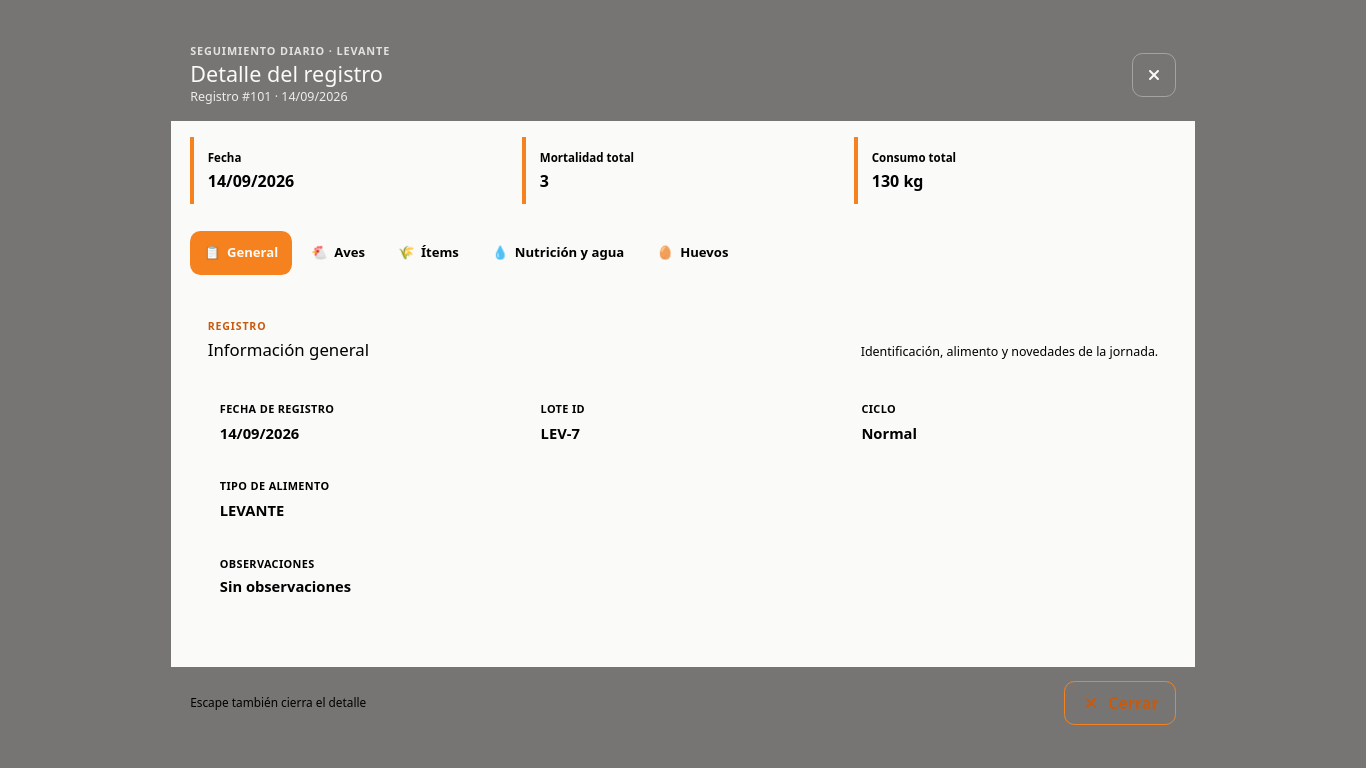
Scenario: ModalDetalleSeguimientoLevanteComponent · detalle responsive › usa botones tactiles y navega a Aves
Click the tab with id "det-levante-tab-aves". click: coordinates (338, 253)
box: [297, 231, 379, 275]
(page scrolled)
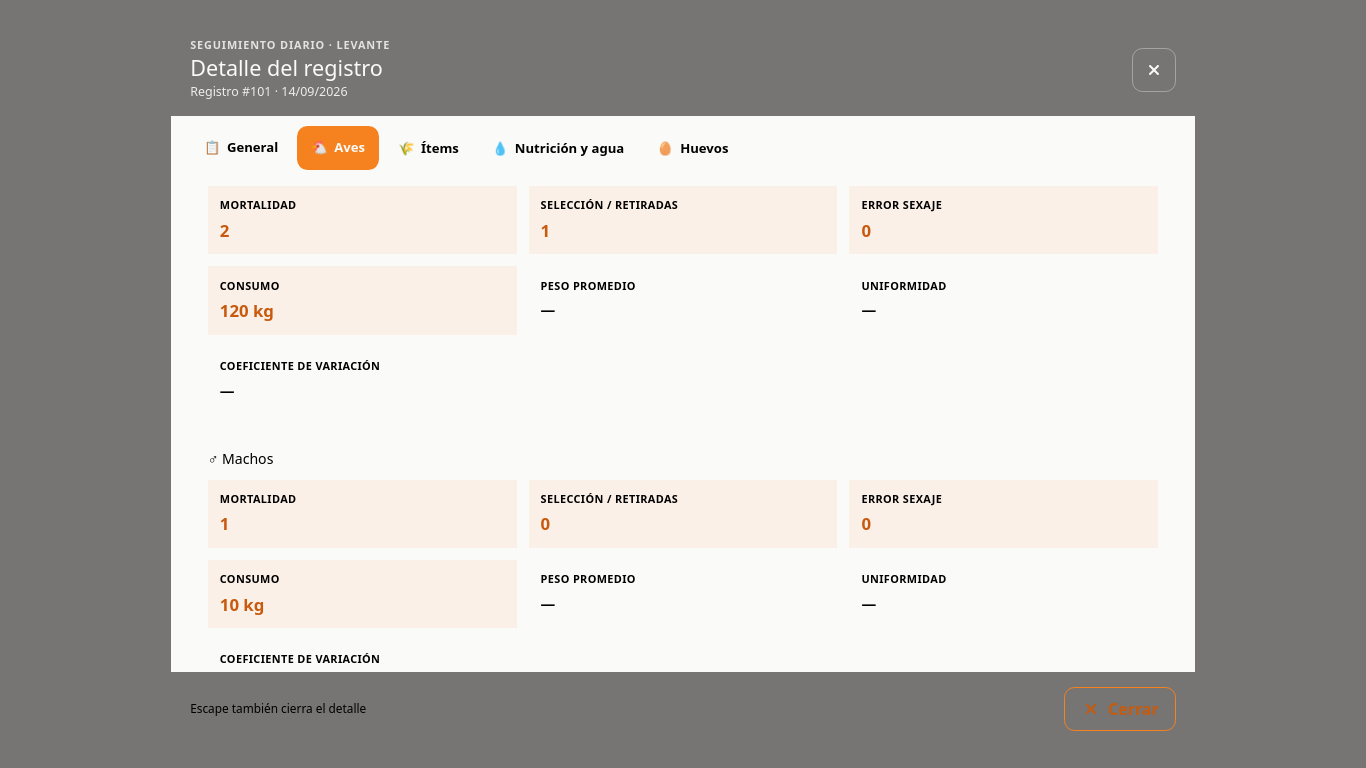
Result: the panel with id "det-levante-panel-aves" is shown at [208, 116, 1158, 672]
